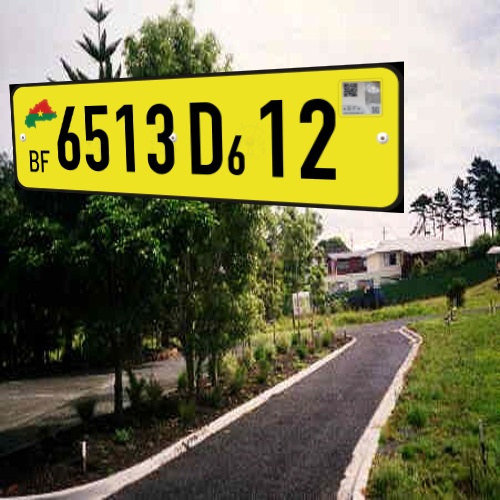plate: (2, 57, 417, 224)
